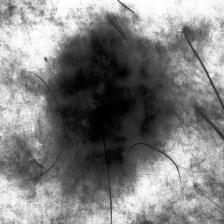Benign Marking or Mole: (49, 11, 175, 172)
